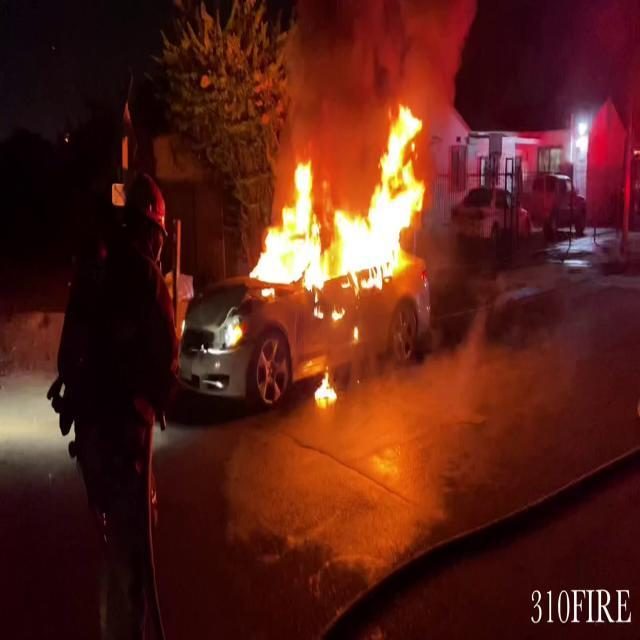Fire: (249, 100, 433, 296), (312, 364, 338, 413)
Smoke: (284, 0, 478, 151)
